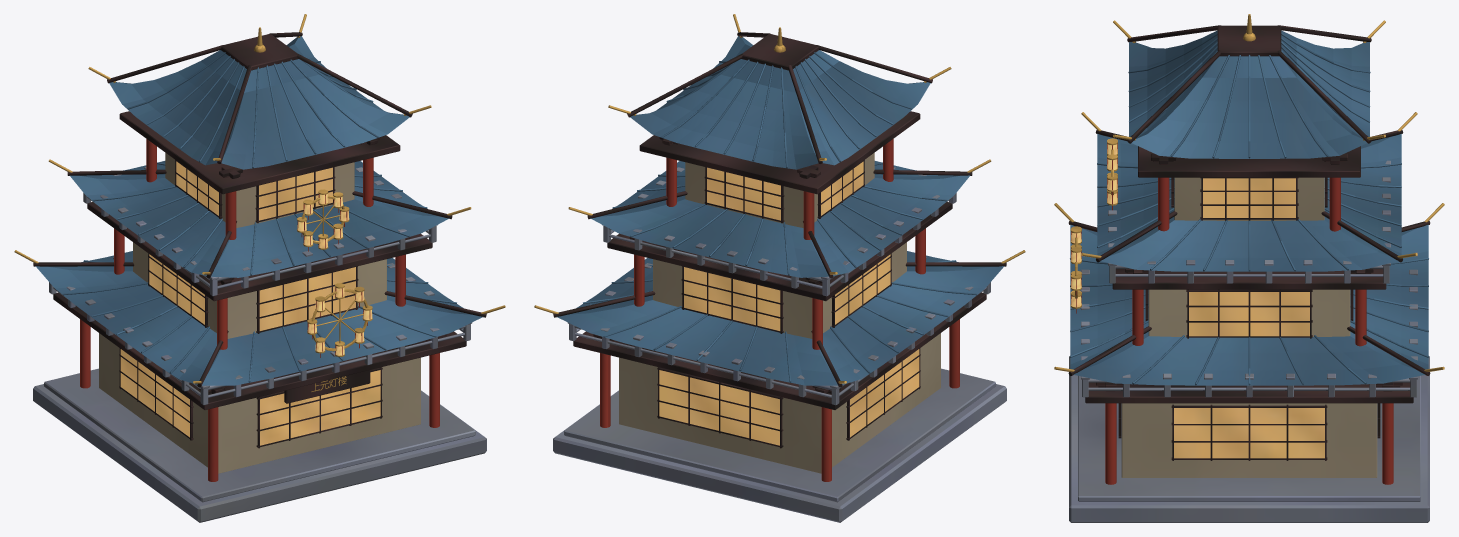
File: model-lantern-tower.glb
3 views of the same model, side by side, from view 1: azimuth 30°, elevation 25°; view 2: azimuth 150°, elevation 25°; view 3: azimuth 270°, elevation 25° (orthographic). The views are drawn at different scales.
Visible parts, largest first — view 1: model-lantern-tower, lantern-wheel-01, lantern-wheel-02; view 2: model-lantern-tower; view 3: model-lantern-tower, lantern-wheel-01, lantern-wheel-02.
Boxes of the visible parts, x1,y1,x2,y2 form: model-lantern-tower: (14,14,505,522); lantern-wheel-01: (307,283,372,357); lantern-wheel-02: (297,189,349,251); model-lantern-tower: (534,14,1025,522); model-lantern-tower: (1054,14,1444,522); lantern-wheel-01: (1070,226,1081,313); lantern-wheel-02: (1107,138,1117,210).
Bounding box in the file's own units: 12.97 × 15.88 × 12.97.
Materials: 8 (8 with a texture image).
